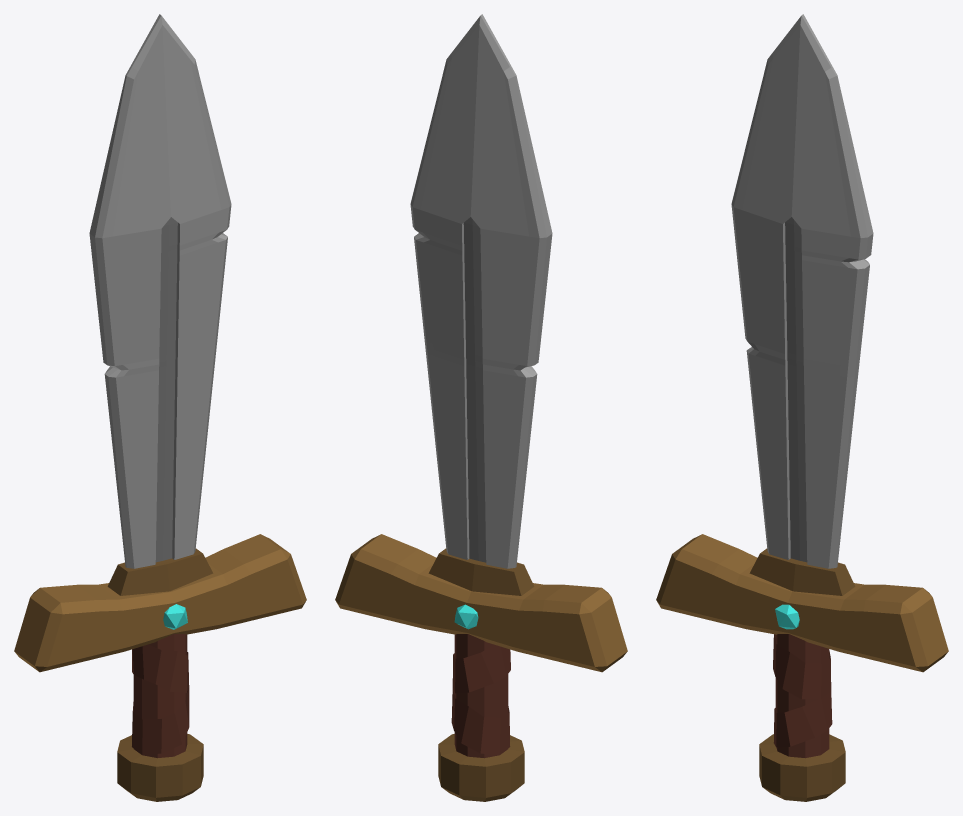
The model's file is Sword.fbx.
3 renders of one model, left to right at view 1: azimuth 30°, elevation 25°; view 2: azimuth 150°, elevation 25°; view 3: azimuth 330°, elevation 25°, orthographic.
Visible parts, largest first — view 1: Cube.001, Cube, Cylinder, Cube.003, Cylinder.001, Cube.002; view 2: Cube.001, Cube, Cylinder, Cube.003, Cylinder.001, Cube.002; view 3: Cube.001, Cube, Cylinder, Cube.003, Cylinder.001, Cube.002.
Part boxes in pixels (box(x1,y1,x2,y2)): Cube.001: box(89, 14, 231, 568); Cube: box(14, 534, 306, 672); Cylinder: box(132, 634, 189, 758); Cube.003: box(155, 217, 177, 562); Cylinder.001: box(117, 734, 203, 801); Cube.002: box(107, 548, 213, 595); Cube.001: box(410, 14, 552, 568); Cube: box(335, 534, 627, 672); Cylinder: box(451, 634, 510, 758); Cube.003: box(463, 217, 486, 562); Cylinder.001: box(438, 734, 524, 801); Cube.002: box(428, 548, 534, 595); Cube.001: box(731, 14, 873, 568); Cube: box(656, 534, 948, 672); Cylinder: box(773, 634, 832, 758); Cube.003: box(785, 217, 807, 562); Cylinder.001: box(759, 734, 845, 801); Cube.002: box(749, 548, 855, 595).
Bounding box in the file's own units: 196 × 533 × 55.29.
